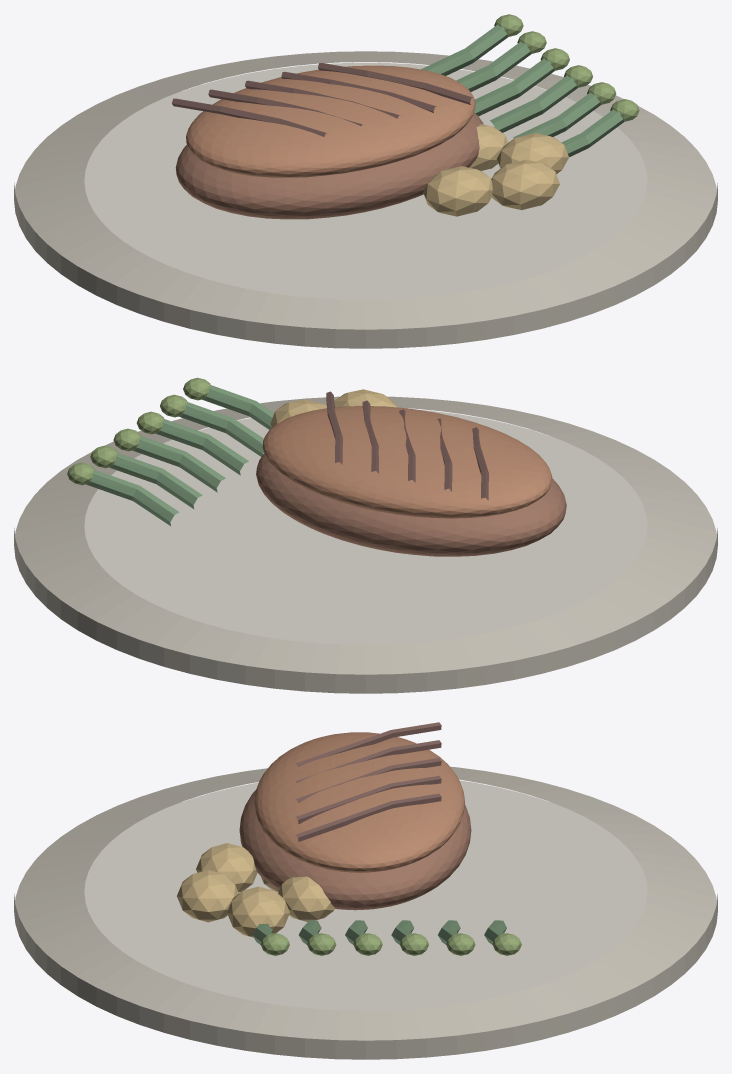
Rendered from steak.glb.
3 renders of one model, top to bottom at view 1: azimuth 30°, elevation 25°; view 2: azimuth 150°, elevation 25°; view 3: azimuth 270°, elevation 25°, orthographic.
Parts seen in each view (by area): view 1: world; view 2: world; view 3: world.
Boxes of the visible parts, x1,y1,x2,y2 form: world: (14, 14, 717, 348); world: (14, 377, 717, 693); world: (14, 722, 717, 1059).
Bounding box in the file's own units: 0.334 × 0.0669 × 0.334.
